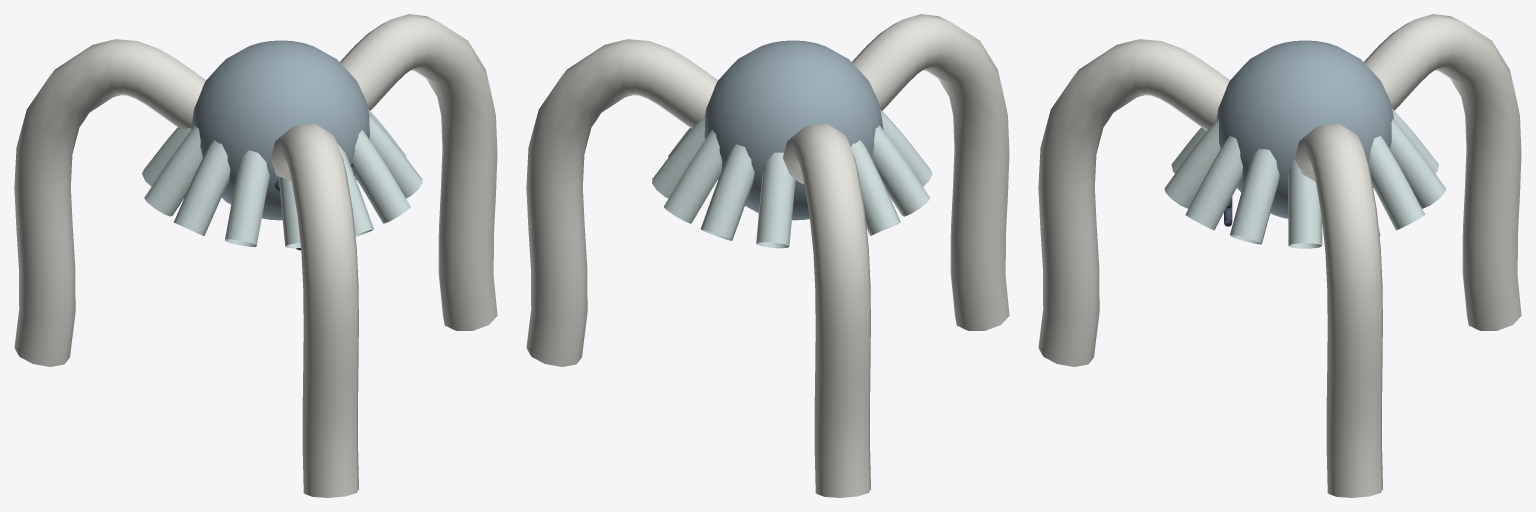
The model's file is bio_tripod_bell_08_near.glb.
3 renders of one model, left to right at view 1: azimuth 30°, elevation 25°; view 2: azimuth 150°, elevation 25°; view 3: azimuth 270°, elevation 25°, orthographic.
Visible parts, largest first — view 1: Arched tripod.001, Arched tripod, Arched tripod.002, Hanging bell core, Flared rib.008, Flared rib.007, Flared rib.011, Flared rib.006, Flared rib.012, Flared rib.009, Flared rib.010, Flared rib.005; view 2: Arched tripod, Arched tripod.002, Arched tripod.001, Hanging bell core, Flared rib.003, Flared rib.004, Flared rib.002, Flared rib.007, Flared rib.006, Flared rib.001, Flared rib.008; view 3: Arched tripod.002, Arched tripod.001, Arched tripod, Hanging bell core, Flared rib.012, Flared rib.011, Flared rib.002, Flared rib, Flared rib.003, Flared rib.010, Flared rib.004.
Part boxes in pixels (bbox=[...]): Arched tripod.001: bbox=[14, 39, 205, 366]; Arched tripod: bbox=[340, 14, 497, 330]; Arched tripod.002: bbox=[270, 124, 358, 497]; Hanging bell core: bbox=[191, 40, 369, 220]; Flared rib.008: bbox=[224, 150, 269, 246]; Flared rib.007: bbox=[173, 140, 230, 235]; Flared rib.011: bbox=[352, 130, 410, 223]; Flared rib.006: bbox=[144, 125, 202, 216]; Flared rib.012: bbox=[369, 113, 422, 198]; Flared rib.009: bbox=[278, 177, 300, 248]; Flared rib.010: bbox=[338, 144, 373, 236]; Flared rib.005: bbox=[142, 127, 191, 186]; Arched tripod: bbox=[526, 39, 717, 366]; Arched tripod.002: bbox=[852, 14, 1009, 330]; Arched tripod.001: bbox=[783, 124, 870, 497]; Hanging bell core: bbox=[704, 40, 883, 220]; Flared rib.003: bbox=[700, 144, 754, 240]; Flared rib.004: bbox=[756, 152, 795, 248]; Flared rib.002: bbox=[664, 130, 722, 223]; Flared rib.007: bbox=[872, 125, 929, 216]; Flared rib.006: bbox=[851, 140, 900, 235]; Flared rib.001: bbox=[652, 117, 705, 198]; Flared rib.008: bbox=[880, 110, 932, 186]; Arched tripod.002: bbox=[1038, 39, 1229, 366]; Arched tripod.001: bbox=[1364, 14, 1521, 330]; Arched tripod: bbox=[1294, 124, 1382, 497]; Hanging bell core: bbox=[1216, 40, 1393, 218]; Flared rib.012: bbox=[1230, 148, 1279, 244]; Flared rib.011: bbox=[1185, 136, 1242, 230]; Flared rib.002: bbox=[1368, 136, 1424, 230]; Flared rib: bbox=[1288, 159, 1322, 248]; Flared rib.003: bbox=[1390, 118, 1445, 208]; Flared rib.010: bbox=[1164, 118, 1220, 208]; Flared rib.004: bbox=[1392, 109, 1438, 173].
Bounding box in the file's own units: 2.5 × 2.01 × 2.57.
